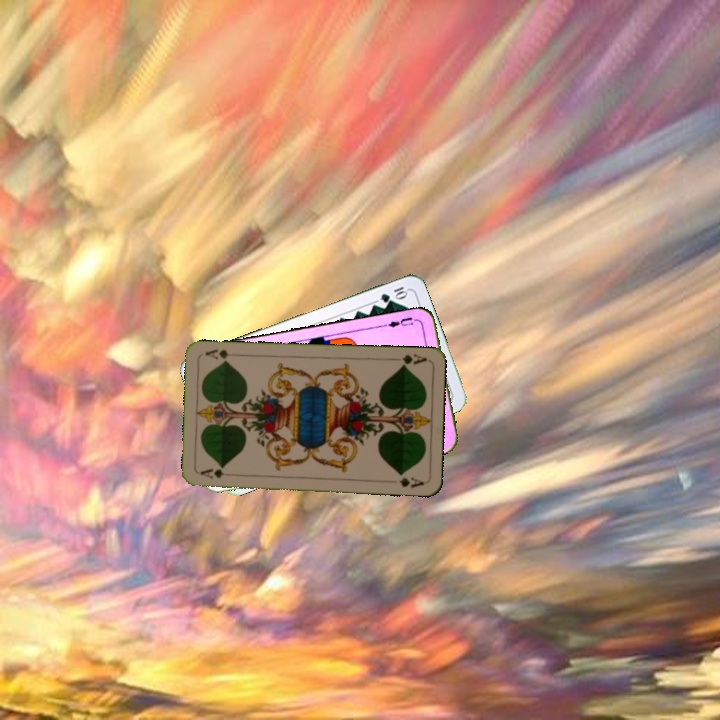EU: (382, 313, 416, 330)
G10: (376, 282, 410, 305)
GA: (389, 350, 429, 370), (197, 465, 237, 481)
